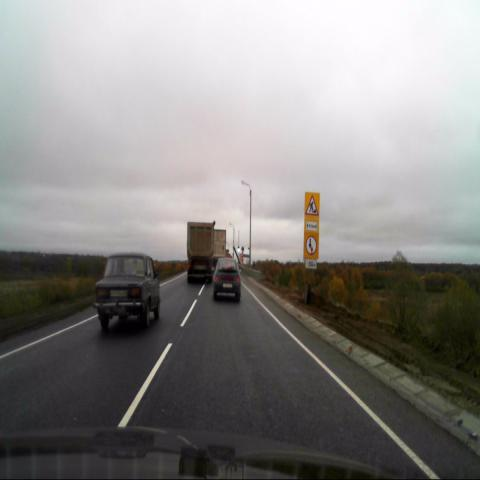2_6: (304, 233, 318, 259)
